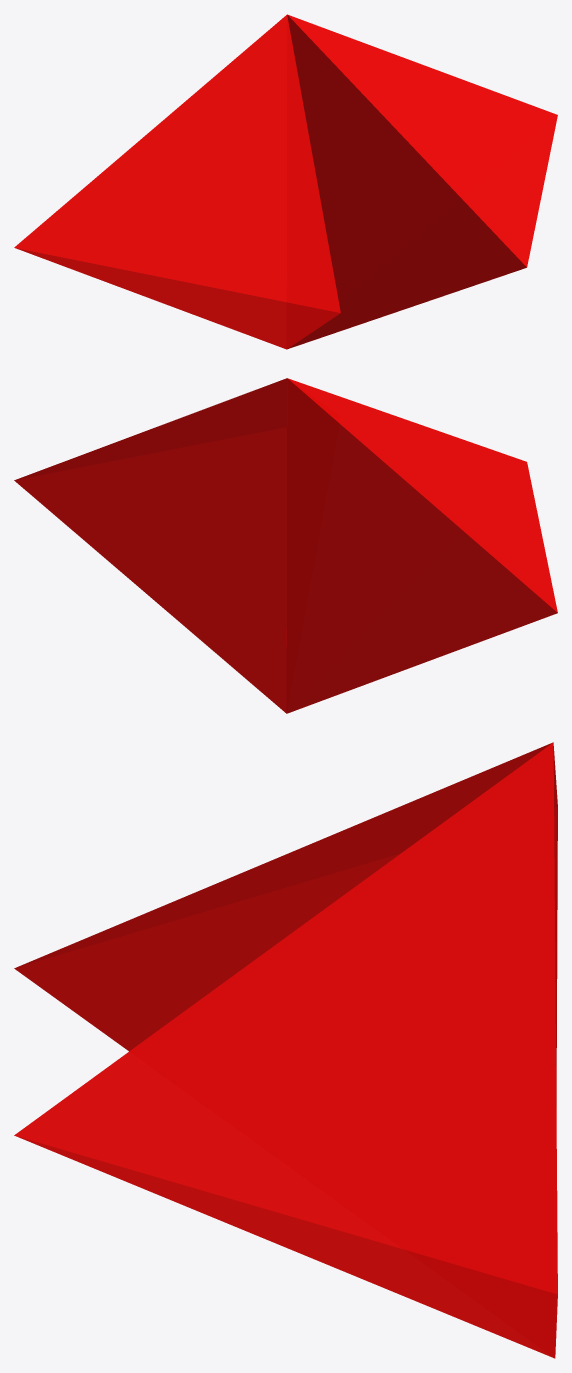
File: filledShapes.fbx
3 views of the same model, one above another, from view 1: azimuth 30°, elevation 25°; view 2: azimuth 150°, elevation 25°; view 3: azimuth 270°, elevation 25° (orthographic). The views are drawn at different scales.
Visible parts, largest first — view 1: Platonic_2tetra_left; view 2: Platonic_2tetra_left; view 3: Platonic_2tetra_left.
Boxes of the visible parts, x1=… form: Platonic_2tetra_left: x1=14, y1=14, x2=557, y2=349; Platonic_2tetra_left: x1=14, y1=378, x2=557, y2=713; Platonic_2tetra_left: x1=14, y1=742, x2=557, y2=1358.
Bounding box in the file's own units: 1745 × 1028 × 822.
